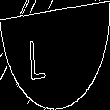L_N: (45, 28, 65, 82)
